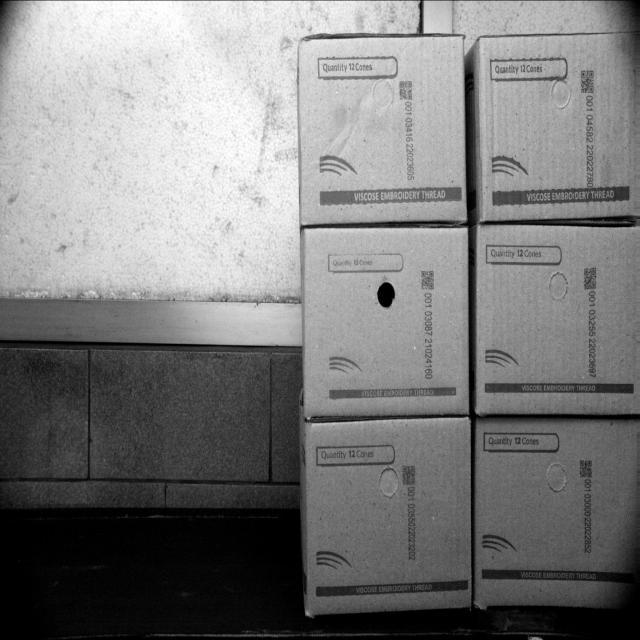box: (476, 224, 640, 413), (305, 226, 468, 414), (302, 42, 468, 221), (306, 423, 470, 604), (478, 423, 640, 606), (476, 34, 636, 214)
